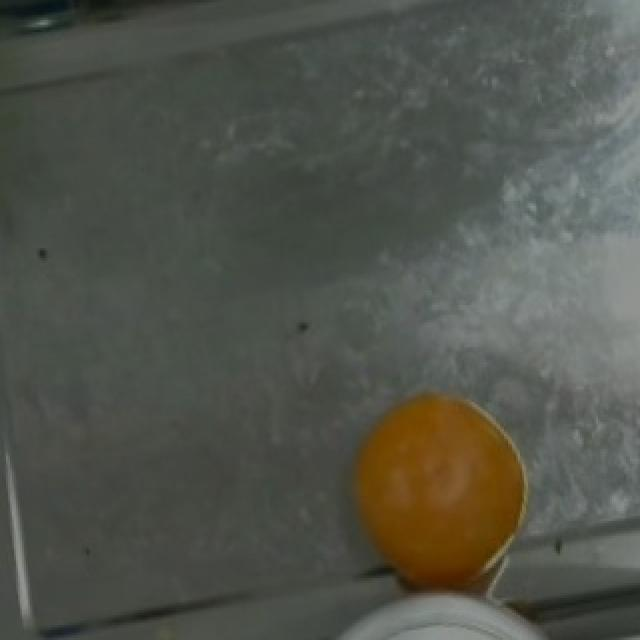Fruit: (340, 370, 554, 612)
